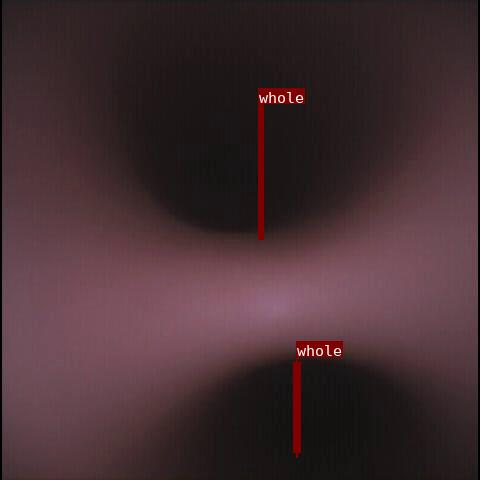whole: (258, 104, 263, 239), (296, 357, 297, 457)
